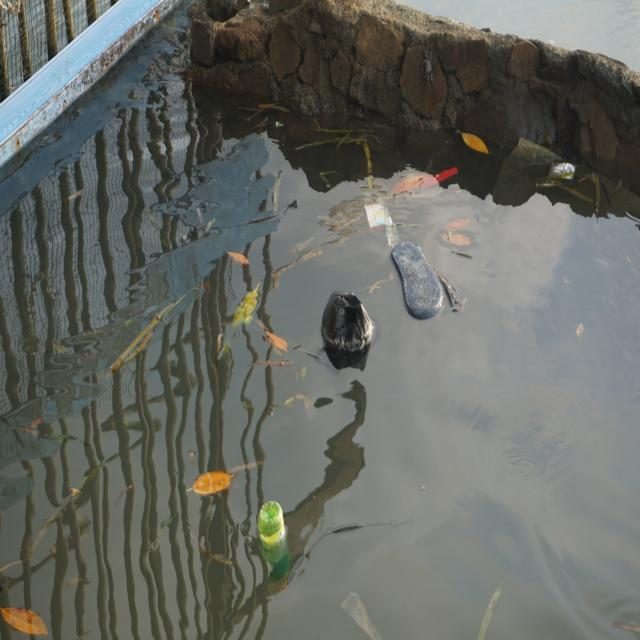Botol Plastik: (257, 498, 297, 586)
Kantong Plastik: (319, 279, 380, 377)
